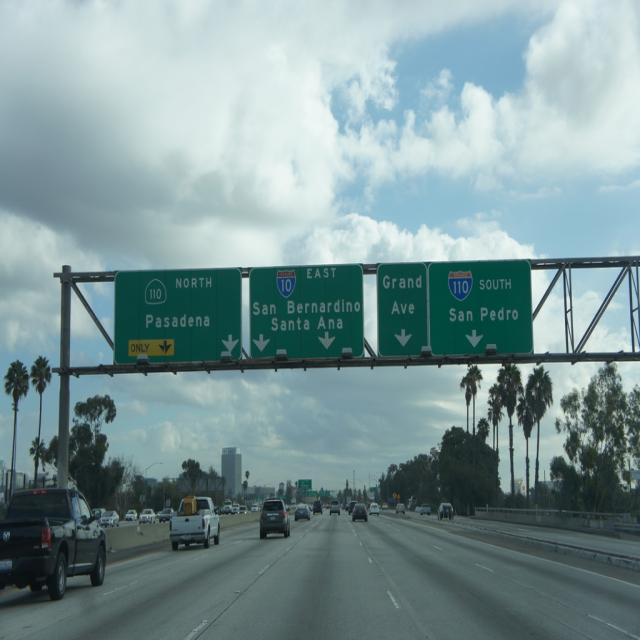car: (258, 495, 289, 537), (351, 500, 366, 521), (294, 501, 308, 521), (438, 501, 453, 518), (329, 497, 339, 515), (368, 502, 378, 515), (313, 498, 322, 512), (420, 502, 430, 512), (395, 502, 404, 513), (380, 500, 387, 508)
